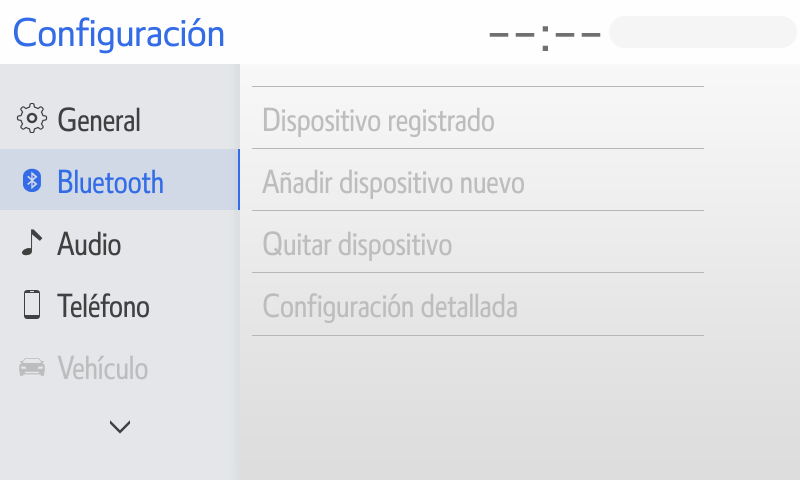touchPart: (9, 281, 166, 327), (17, 224, 170, 267), (16, 100, 157, 134), (104, 408, 137, 441)
untouchPart: (247, 82, 716, 155), (247, 206, 708, 280), (246, 144, 711, 216), (247, 267, 712, 338), (1, 146, 241, 214), (475, 12, 800, 49), (3, 11, 226, 55), (13, 339, 159, 387)
